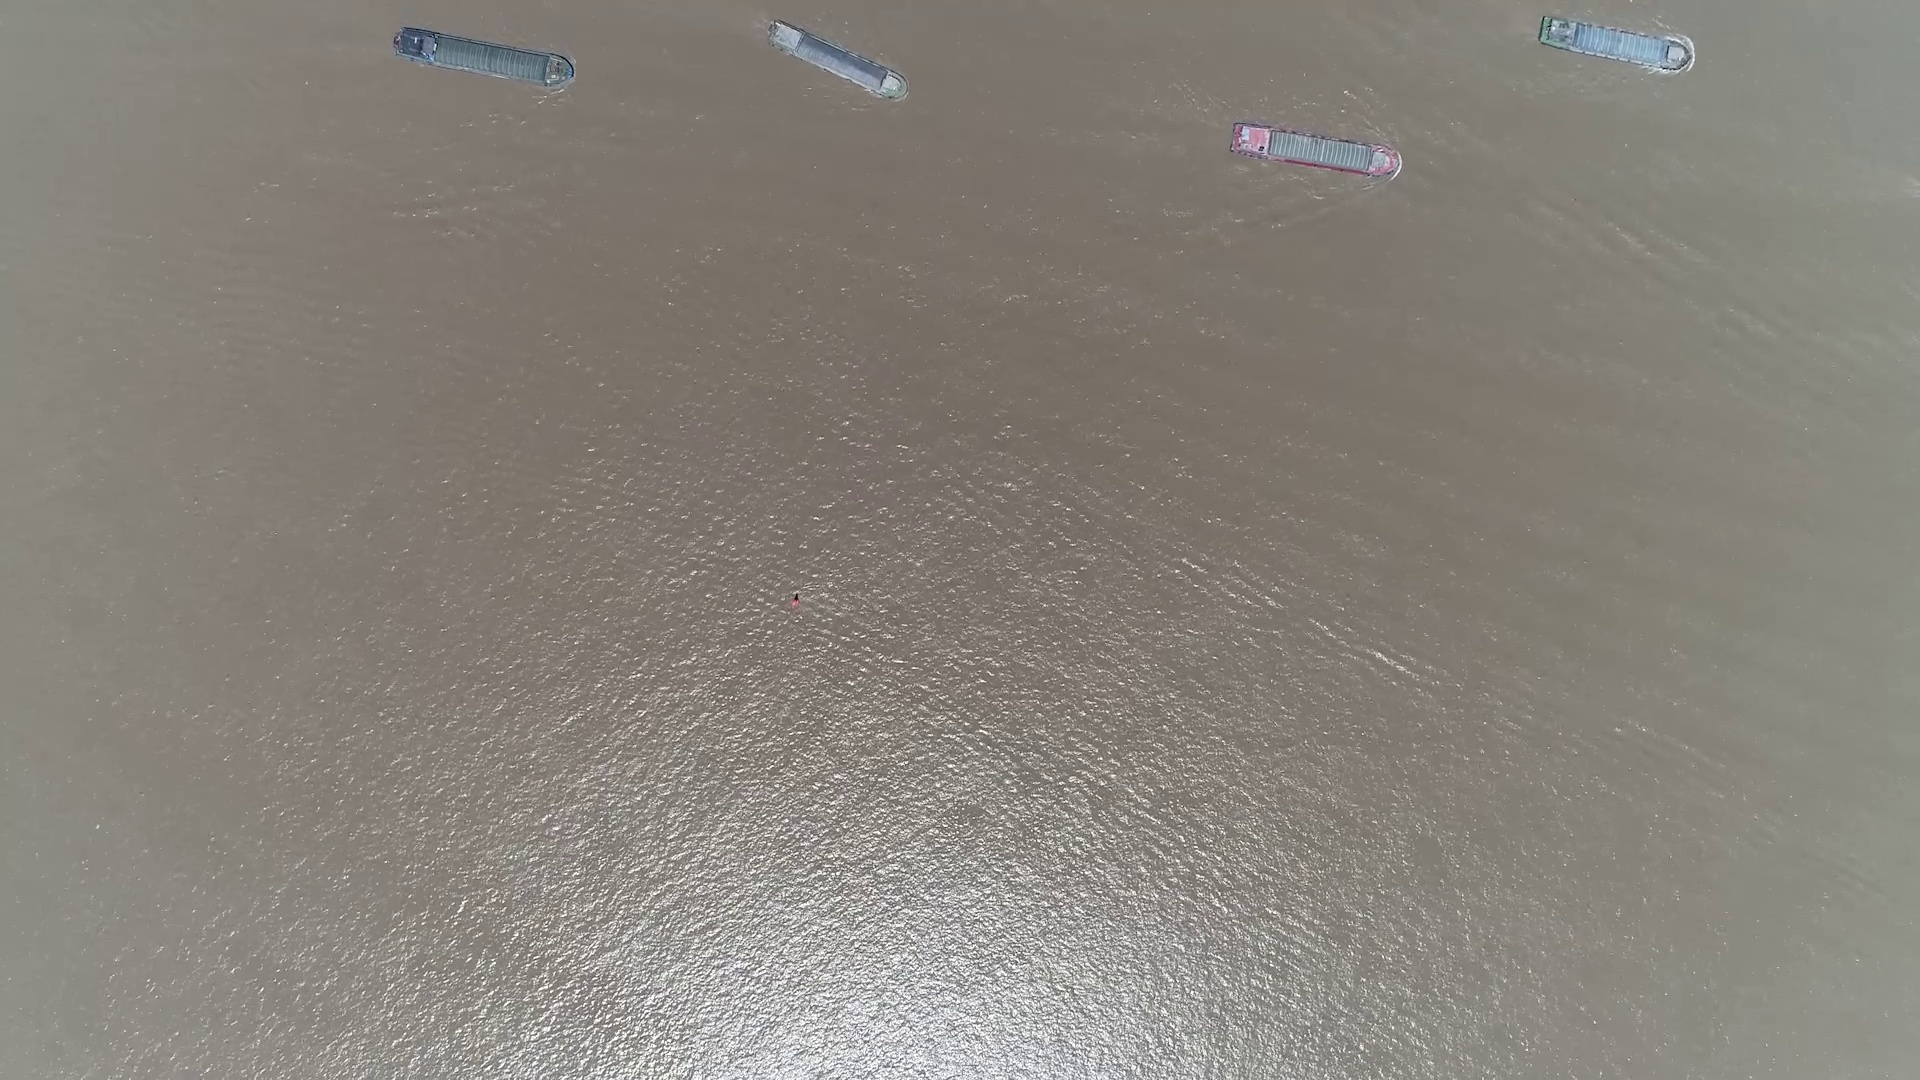ship: (769, 21, 910, 105), (392, 26, 575, 90), (1228, 127, 1400, 179), (1536, 16, 1695, 71)
